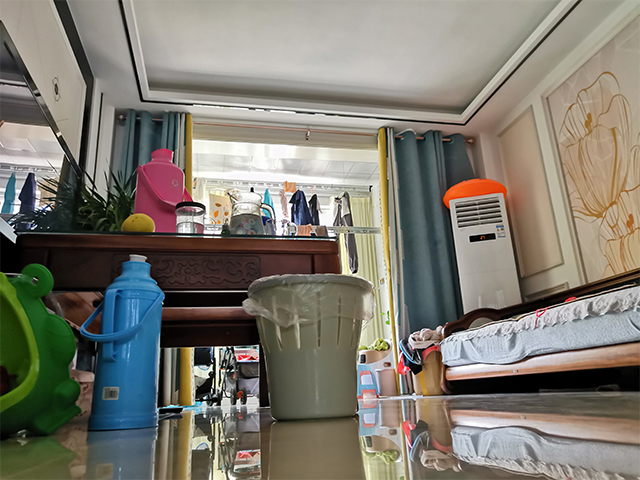curtain: (379, 125, 476, 398)
sofa: (394, 265, 640, 398)
stool: (355, 362, 380, 399)
table: (12, 228, 345, 410)
trashcan: (245, 272, 376, 424)
